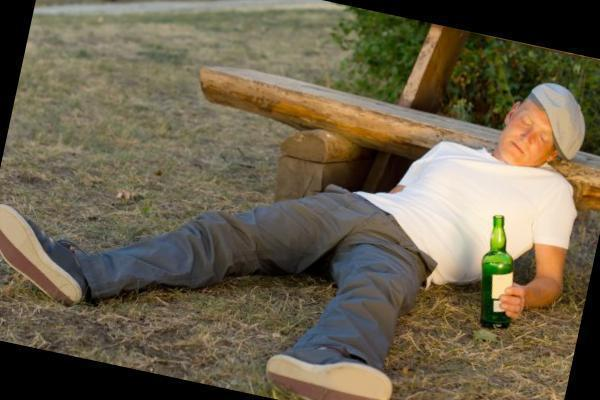Drunk: (504, 115, 558, 167)
